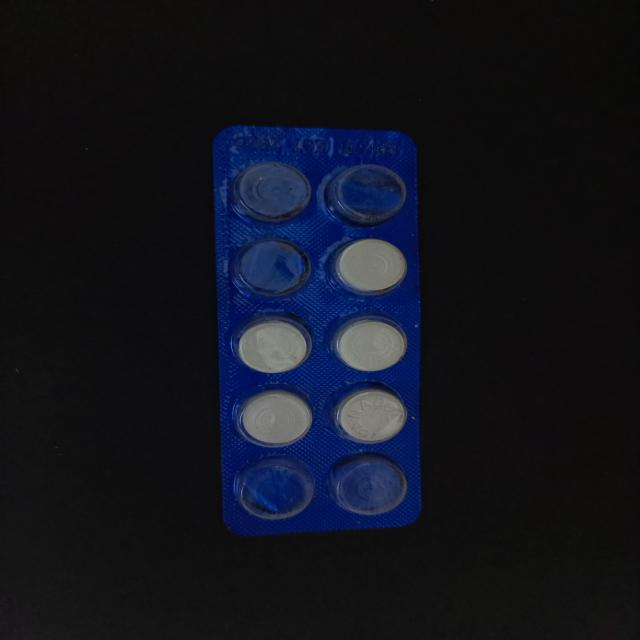defect: (224, 160, 316, 228), (228, 236, 316, 304), (320, 162, 410, 228), (325, 450, 411, 518), (230, 456, 318, 522)
